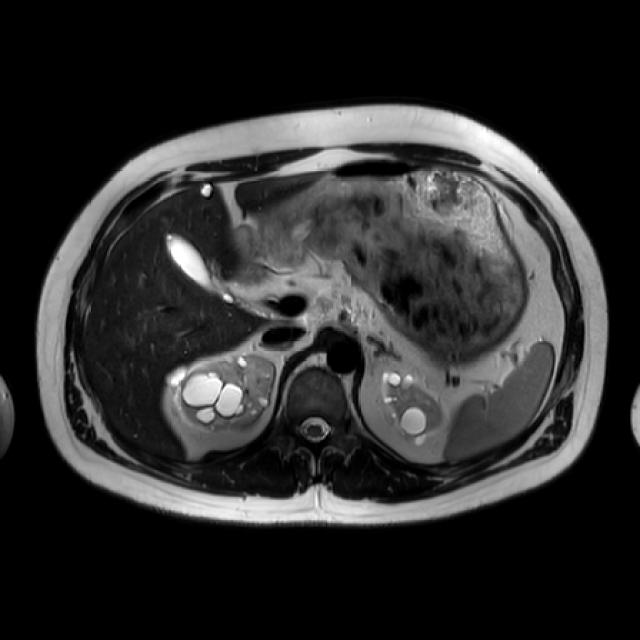sag: (170, 355, 277, 434)
sol: (381, 372, 445, 444)
